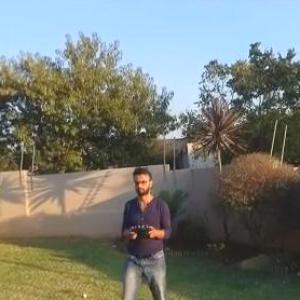follow: (118, 163, 176, 299)
